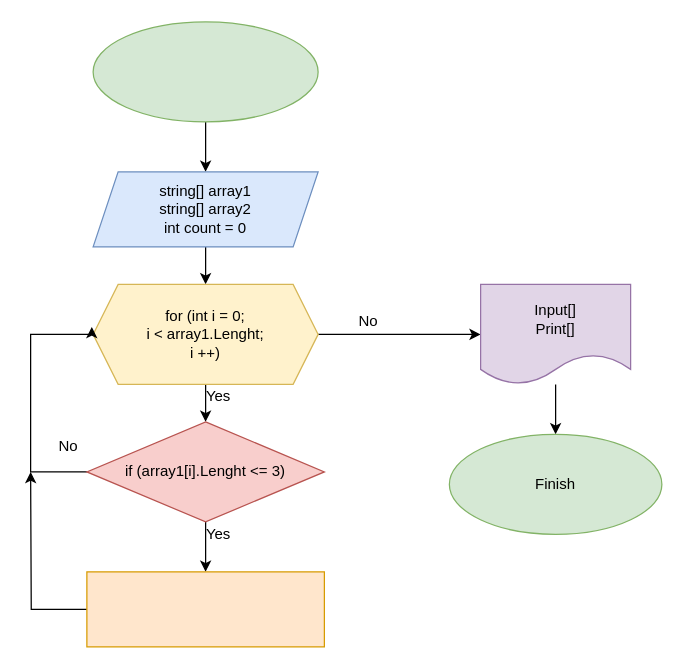
The diagram is 684 pixels wide and 669 high, and some of its shapes have lost their labels. Each missing label, with the centre of its shape:
array2[count] = array1[i] count++: the point at 205,609
Start: the point at 205,71
